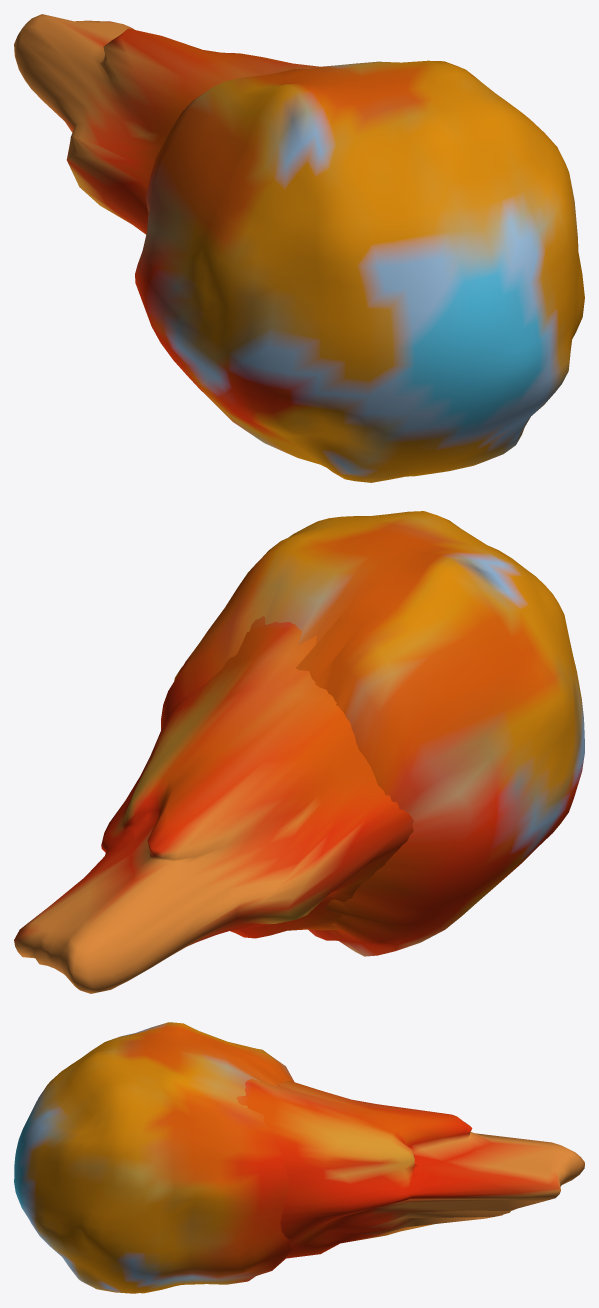
File: fireball_stretched.fbx
3 renders of one model, top to bottom at view 1: azimuth 30°, elevation 25°; view 2: azimuth 150°, elevation 25°; view 3: azimuth 270°, elevation 25°, orthographic. The views are drawn at different scales.
Visible parts, largest first — view 1: fireball_stretched_head, fireball_stretched_tail; view 2: fireball_stretched_head, fireball_stretched_tail; view 3: fireball_stretched_head, fireball_stretched_tail.
Part boxes in pixels (x1=…): fireball_stretched_head: x1=135, y1=60, x2=584, y2=482; fireball_stretched_tail: x1=14, y1=14, x2=319, y2=234; fireball_stretched_head: x1=161, y1=511, x2=584, y2=956; fireball_stretched_tail: x1=14, y1=616, x2=413, y2=993; fireball_stretched_head: x1=14, y1=1022, x2=294, y2=1293; fireball_stretched_tail: x1=236, y1=1075, x2=584, y2=1258.
Bounding box in the file's own units: 1.58 × 1.67 × 3.59.
